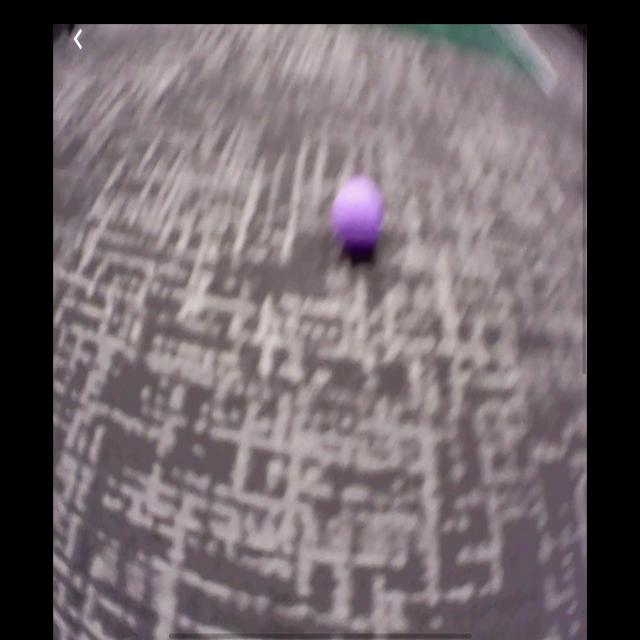ball: (336, 175, 385, 254)
